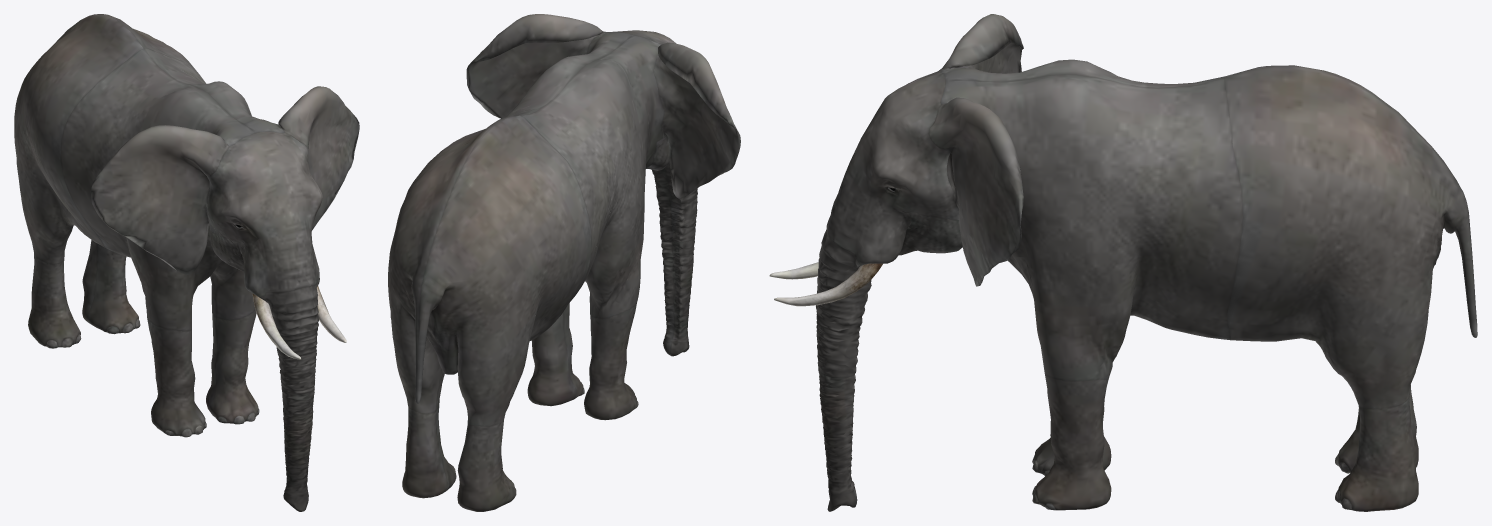
Rendered from zou.glb.
3 views of the same model, side by side, from view 1: azimuth 30°, elevation 25°; view 2: azimuth 150°, elevation 25°; view 3: azimuth 270°, elevation 25° (orthographic). The views are drawn at different scales.
Parts seen in each view (by area): view 1: African_elephant_Body_African_elephant_Body_0, _; view 2: African_elephant_Body_African_elephant_Body_0; view 3: African_elephant_Body_African_elephant_Body_0, _.
Part boxes in pixels (x1,y1,x2,y2): African_elephant_Body_African_elephant_Body_0: (14,14,359,511); _: (252,286,346,359); African_elephant_Body_African_elephant_Body_0: (388,14,740,511); African_elephant_Body_African_elephant_Body_0: (816,14,1477,511); _: (769,262,882,306).
Bounding box in the file's own units: 2.19 × 2.78 × 4.
Materials: 6 (3 with a texture image).
